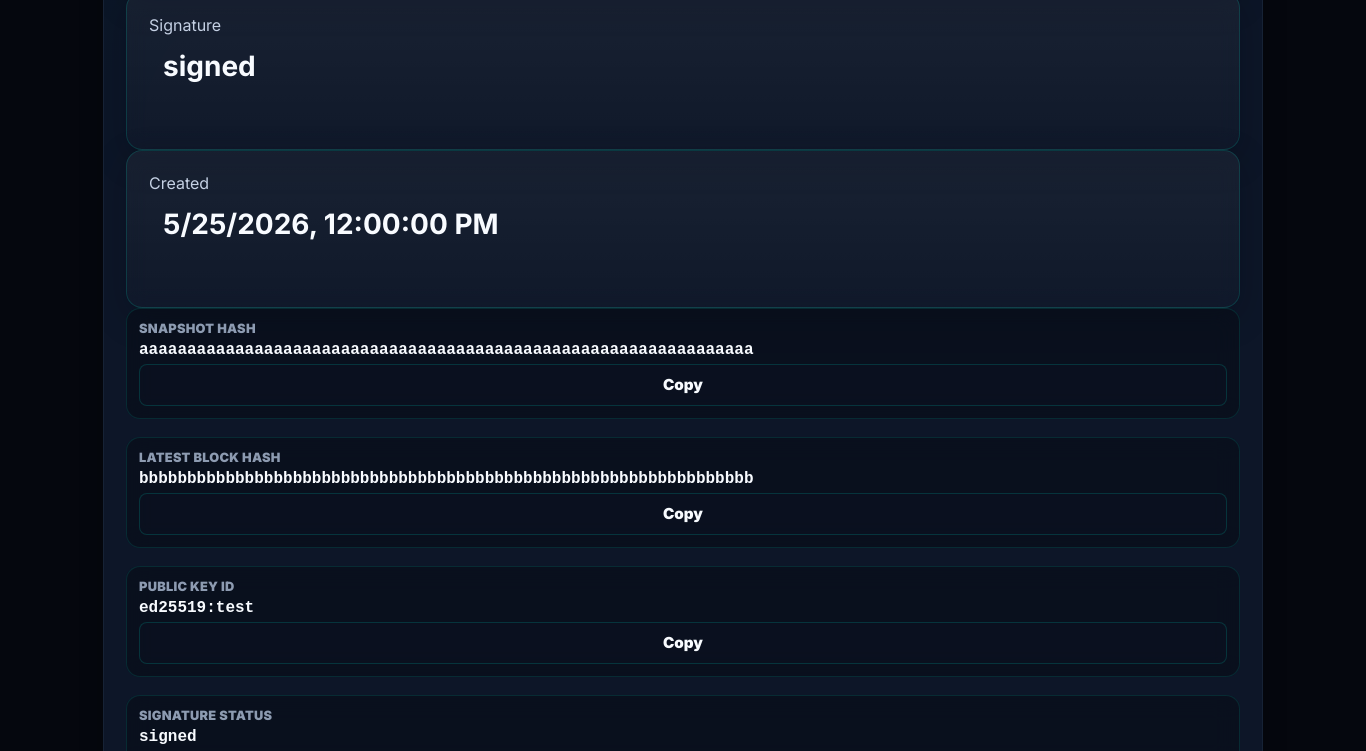
Test: SnapshotArchive page renders latest archive and copy controls
(page scrolled)
Expected: the text "ed25519:test" is shown, [139,599,254,617]
Click the 1st button "Copy".
click(683, 385)  # box [139,364,1227,406]
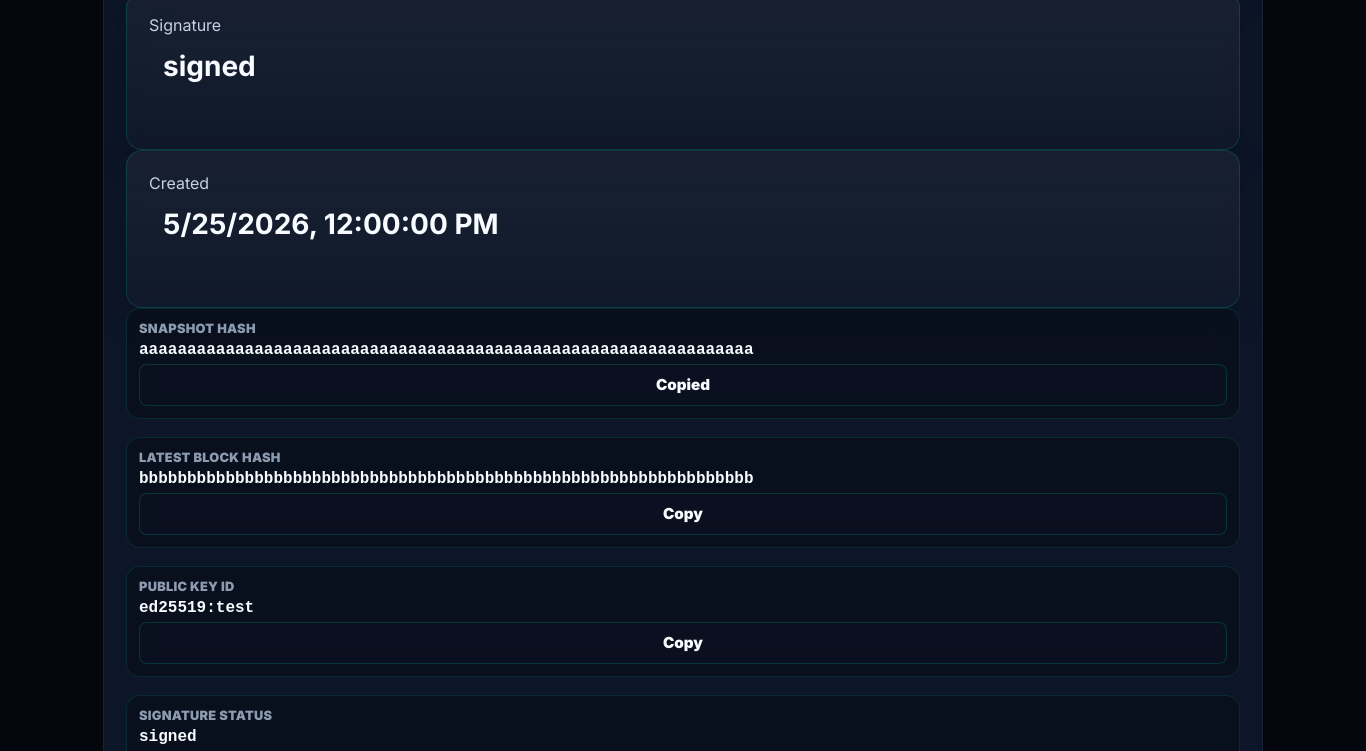
Expected: the button "Copied" is shown, [139,364,1227,406]
